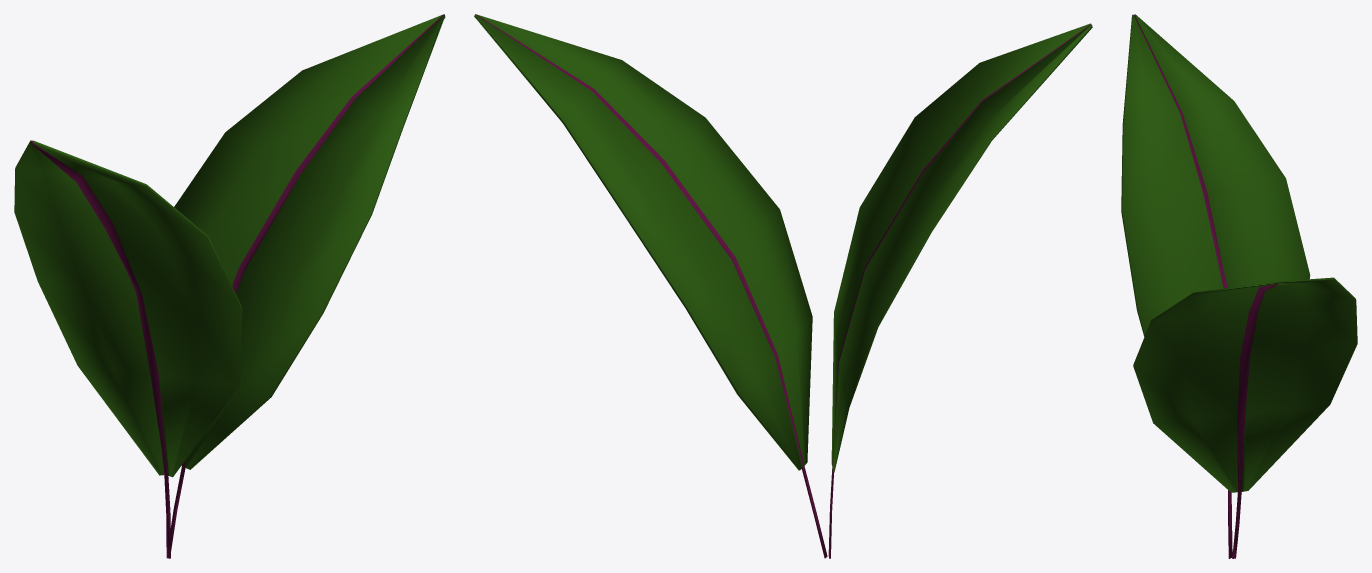
File: BeterrabaBroto.fbx
The picture shows the model from 3 angles, left to right: view 1: azimuth 30°, elevation 25°; view 2: azimuth 150°, elevation 25°; view 3: azimuth 270°, elevation 25°; orthographic projection. The views are drawn at different scales.
Parts seen in each view (by area): view 1: BeterrabaBroto; view 2: BeterrabaBroto; view 3: BeterrabaBroto.
Boxes of the visible parts, box(x1,y1,x2,y2) form: BeterrabaBroto: box(14, 14, 445, 558); BeterrabaBroto: box(474, 14, 1092, 558); BeterrabaBroto: box(1121, 14, 1357, 558).
Bounding box in the file's own units: 11.25 × 10.93 × 5.09.
